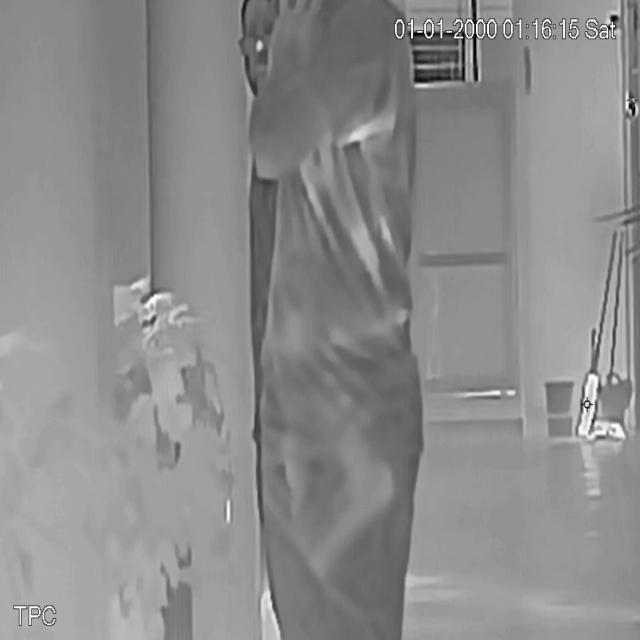Weapon: (298, 417, 407, 576)
